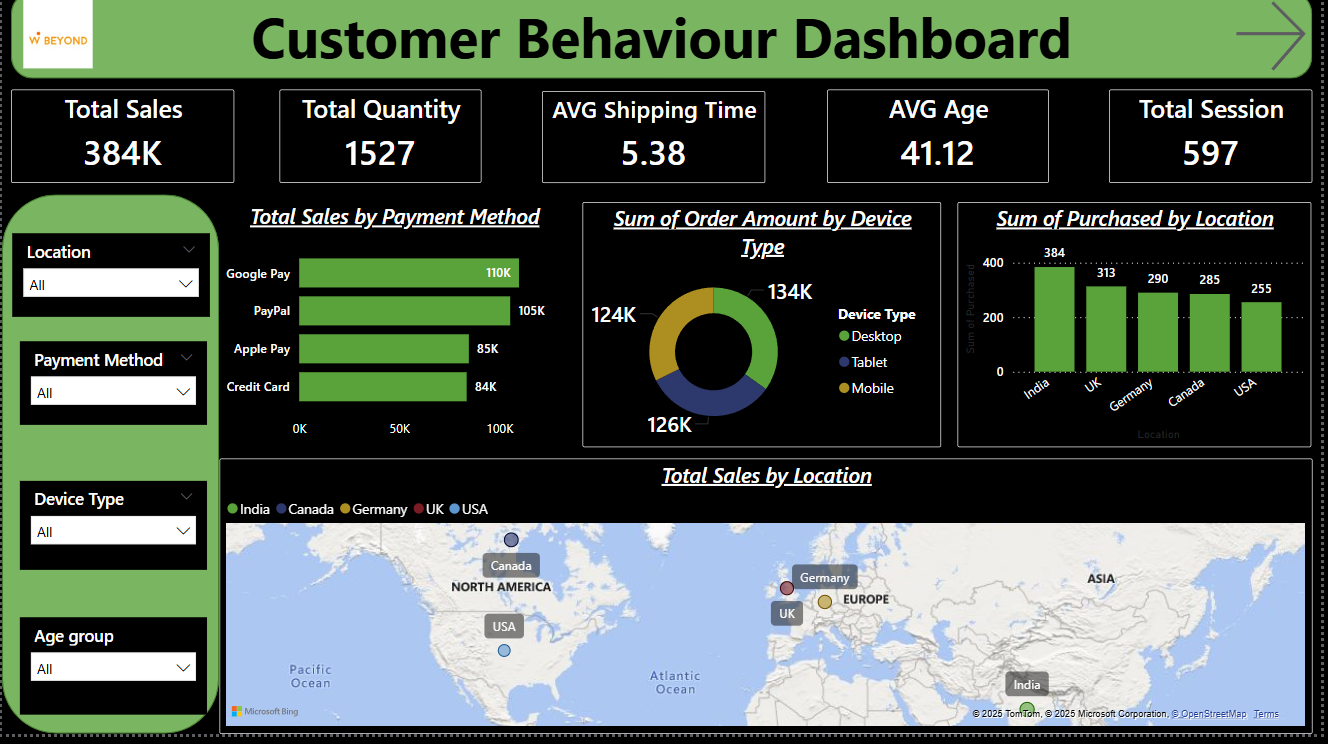

Layout of this report page (visuals, bound fields, positions):
{"tool":"powerbi","page":{"name":"Page 1","canvas":[1280,720],"ordinal":0},"visuals":[{"type":"shape","box":[0,197,210.5,523],"z":0},{"type":"card","title":"Total Sales","fields":{"Values":["Sheet1.Total Sales"]},"box":[8.1,93.9,217,90.7],"z":1000,"group":"g1"},{"type":"barChart","fields":{"Y":["Sheet1.Total Sales"],"Category":["Sheet1.Payment Method"]},"box":[210.5,204,340,238],"z":1000},{"type":"card","title":"Total Quantity","fields":{"Values":["Sheet1.Total Quantity"]},"box":[269.2,93.9,195.9,90.7],"z":2000,"group":"g1"},{"type":"map","title":" Total Sales by Location ","fields":{"Size":["Sum(Sheet1.Order Amount)"],"Category":["Sheet1.Location"],"Series":["Sheet1.Location"]},"box":[210.5,453.4,1060.6,267.2],"z":2000},{"type":"card","title":"AVG Shipping Time","fields":{"Values":["Avg(Sheet1.Shipping Time (days))"]},"box":[523.8,95.5,217,89.1],"z":3000,"group":"g1"},{"type":"donutChart","fields":{"Category":["Sheet1.Device Type"],"Y":["Sum(Sheet1.Order Amount)"]},"box":[563.5,204,348.1,238],"z":3000},{"type":"shape","box":[8.1,0,1263,84.2],"z":4000},{"type":"card","title":"AVG Age","fields":{"Values":["Avg(Sheet1.Age)"]},"box":[799.5,93.9,215.4,90.7],"z":4000,"group":"g1"},{"type":"card","title":"Total Session","fields":{"Values":["CountNonNull(Sheet1.Session ID)"]},"box":[1073.6,93.9,197.5,90.7],"z":5000,"group":"g1"},{"type":"clusteredColumnChart","fields":{"Category":["Sheet1.Location"],"Y":["Sum(Sheet1.Purchased)"]},"box":[927.8,204,343.3,238],"z":5000},{"type":"group","id":"g1","title":"Group 1","box":[8.1,93.9,1263,90.7],"z":6000},{"type":"group","id":"g2","title":"Group 2","box":[10.5,233.7,191.1,466.4],"z":7000},{"type":"image","box":[0,1.6,108.5,77.7],"z":8000},{"type":"actionButton","box":[1188.5,1.6,82.6,82.6],"z":9000},{"type":"slicer","fields":{"Values":["Sheet1.Location"]},"box":[10.5,233.7,191.1,81],"z":9000,"group":"g2"},{"type":"slicer","fields":{"Values":["Sheet1.Device Type"]},"box":[17.7,473.4,181.4,85.8],"z":10000,"group":"g2"},{"type":"slicer","fields":{"Values":["Sheet1.Age group"]},"box":[17.7,606.2,181.4,93.9],"z":11000,"group":"g2"},{"type":"slicer","fields":{"Values":["Sheet1.Payment Method"]},"box":[17.7,339,181.4,81],"z":13001,"group":"g2"}]}

Visuals, with their boxes in screenshot pixels (x1, y1, x2, y2), scaled from the page's 1280x720 canvas onto the 1328x744 screenshot:
shape: (x1=0, y1=204, x2=218, y2=743)
"Total Sales" card: (x1=8, y1=97, x2=234, y2=191)
barChart - Sheet1.Total Sales x Sheet1.Payment Method: (x1=218, y1=211, x2=571, y2=457)
"Total Quantity" card: (x1=279, y1=97, x2=483, y2=191)
" Total Sales by Location " map: (x1=218, y1=469, x2=1319, y2=743)
"AVG Shipping Time" card: (x1=543, y1=99, x2=769, y2=191)
donutChart - Sheet1.Device Type x Sum(Sheet1.Order Amount): (x1=585, y1=211, x2=946, y2=457)
shape: (x1=8, y1=0, x2=1319, y2=87)
"AVG Age" card: (x1=829, y1=97, x2=1053, y2=191)
"Total Session" card: (x1=1114, y1=97, x2=1319, y2=191)
clusteredColumnChart - Sheet1.Location x Sum(Sheet1.Purchased): (x1=963, y1=211, x2=1319, y2=457)
"Group 1" group: (x1=8, y1=97, x2=1319, y2=191)
"Group 2" group: (x1=11, y1=241, x2=209, y2=723)
image: (x1=0, y1=2, x2=113, y2=82)
actionButton: (x1=1233, y1=2, x2=1319, y2=87)
slicer - Sheet1.Location: (x1=11, y1=241, x2=209, y2=325)
slicer - Sheet1.Device Type: (x1=18, y1=489, x2=207, y2=578)
slicer - Sheet1.Age group: (x1=18, y1=626, x2=207, y2=723)
slicer - Sheet1.Payment Method: (x1=18, y1=350, x2=207, y2=434)
